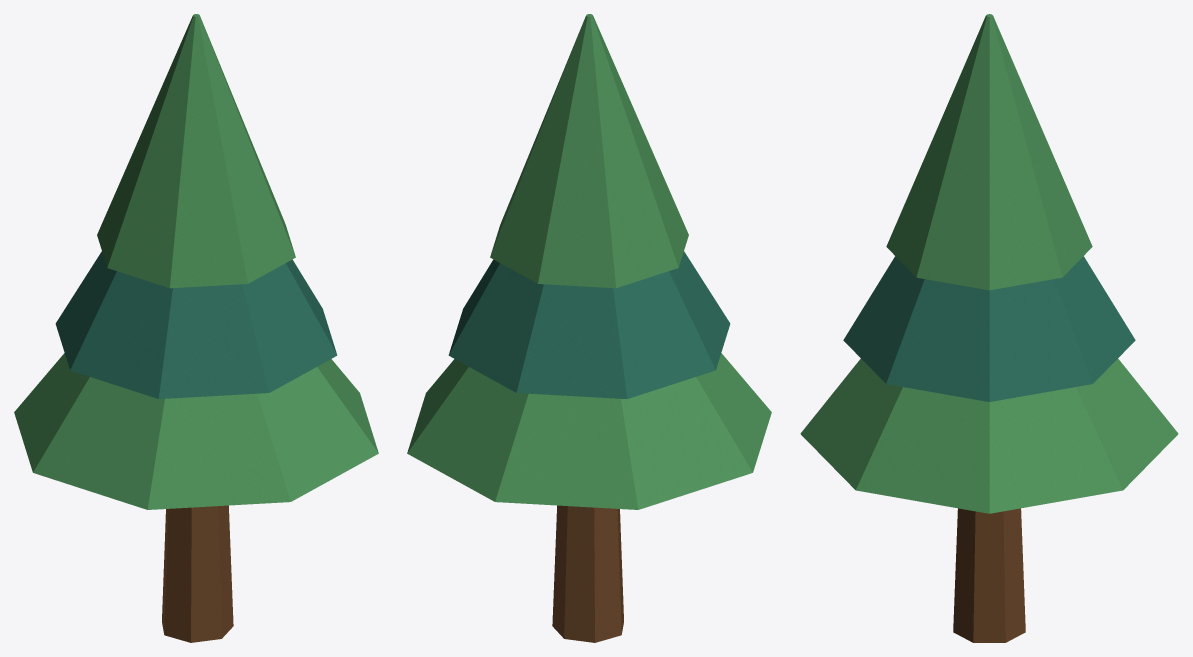
Rendered from innerscene-layered-fir.glb.
The picture shows the model from 3 angles, left to right: view 1: azimuth 30°, elevation 25°; view 2: azimuth 150°, elevation 25°; view 3: azimuth 270°, elevation 25°; orthographic projection.
Parts seen in each view (by area): view 1: Tiered evergreen crown 002, Tiered evergreen crown 004, Tiered evergreen crown 003, Faceted trunk 001; view 2: Tiered evergreen crown 002, Tiered evergreen crown 004, Tiered evergreen crown 003, Faceted trunk 001; view 3: Tiered evergreen crown 002, Tiered evergreen crown 004, Tiered evergreen crown 003, Faceted trunk 001.
Boxes of the visible parts, x1,y1,x2,y2 form: Tiered evergreen crown 002: (14, 353, 378, 509); Tiered evergreen crown 004: (97, 14, 295, 288); Tiered evergreen crown 003: (55, 251, 337, 398); Faceted trunk 001: (162, 505, 233, 642); Tiered evergreen crown 002: (407, 353, 771, 509); Tiered evergreen crown 004: (490, 14, 688, 288); Tiered evergreen crown 003: (448, 251, 730, 398); Faceted trunk 001: (552, 505, 623, 642); Tiered evergreen crown 002: (800, 358, 1178, 513); Tiered evergreen crown 004: (886, 14, 1092, 290); Tiered evergreen crown 003: (843, 256, 1135, 401); Faceted trunk 001: (953, 508, 1025, 642).
Bounding box in the file's own units: 2.64 × 4.72 × 2.64.
3 materials, 3 textured.
